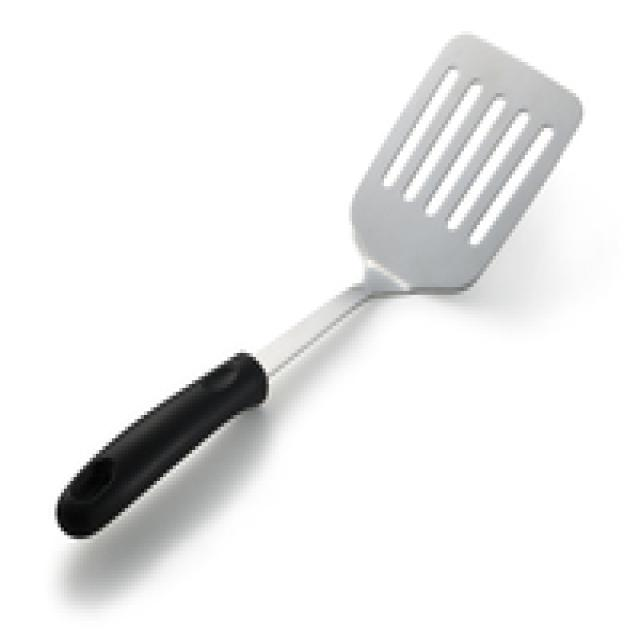Spatula: (14, 12, 611, 584)
